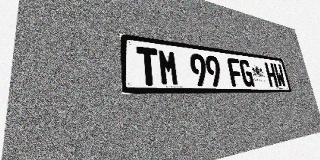9: (189, 53, 209, 86), (204, 55, 223, 86)
F: (227, 58, 244, 87)
G: (239, 59, 255, 87)
H: (264, 62, 279, 87)
M: (157, 49, 180, 86)
T: (136, 46, 160, 86)
W: (273, 63, 287, 87)
